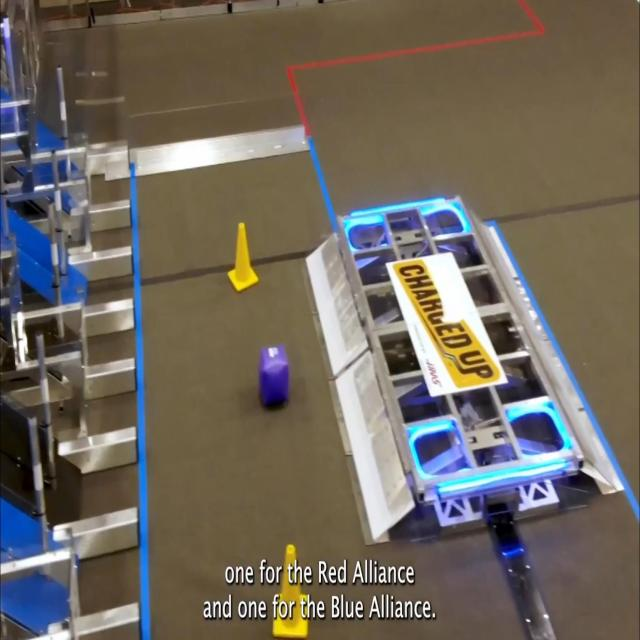frc_cone: (274, 542, 308, 640), (226, 220, 259, 294)
frc_cube: (258, 346, 291, 408)
